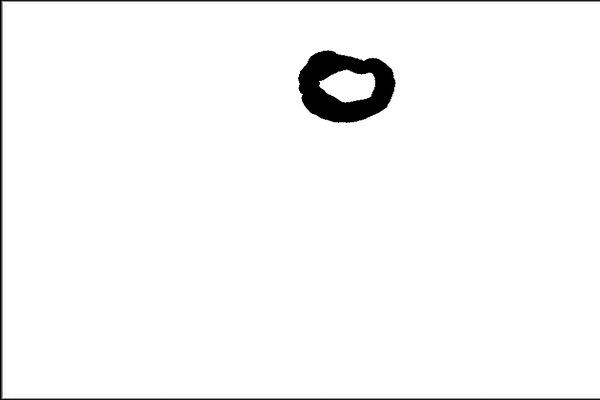O: (289, 35, 397, 133)
